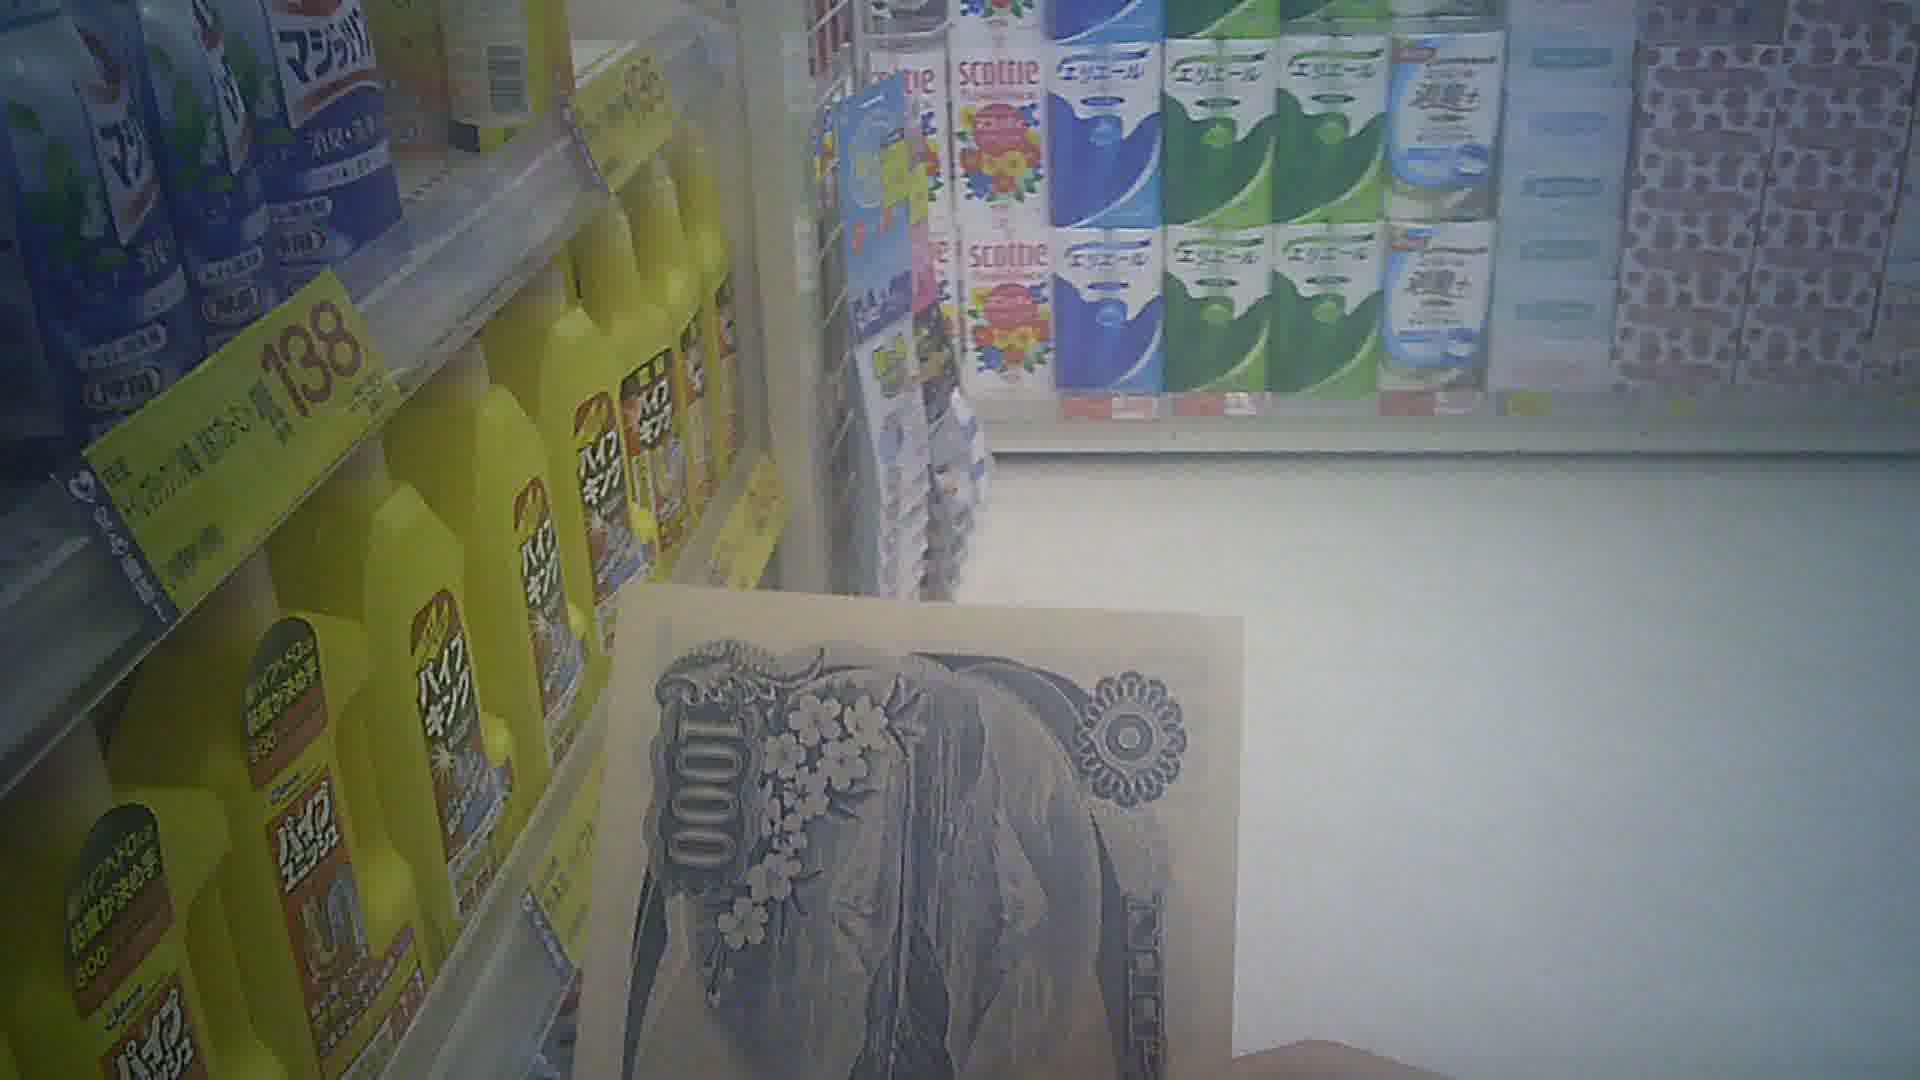1,000 Yen: (575, 560, 1232, 1079)
